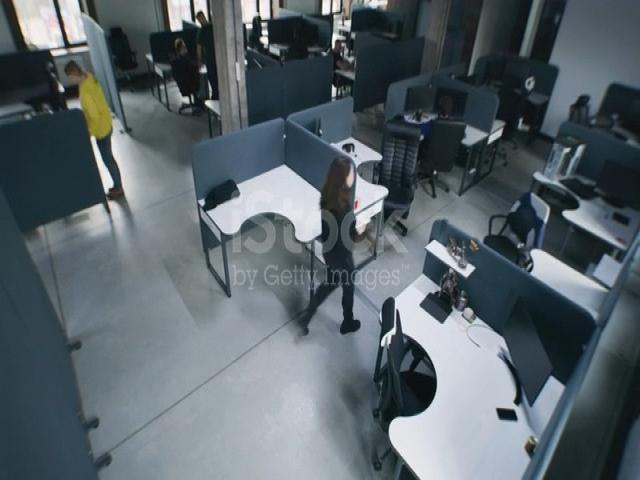empty chair: (363, 286, 442, 480), (478, 178, 554, 276), (374, 118, 422, 238), (567, 75, 624, 137), (494, 68, 527, 159), (29, 44, 70, 112), (105, 13, 136, 82)
occupiedchair: (156, 22, 213, 128), (426, 88, 464, 194), (324, 26, 369, 107)
